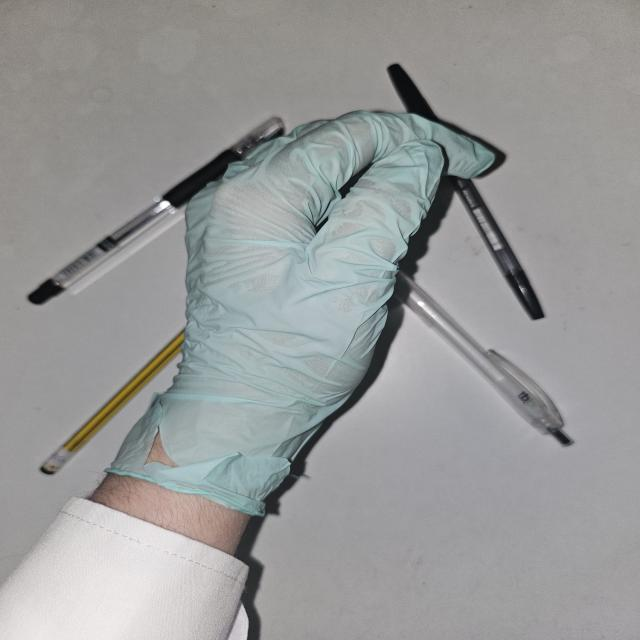gloves_damaged: (101, 111, 499, 516)
